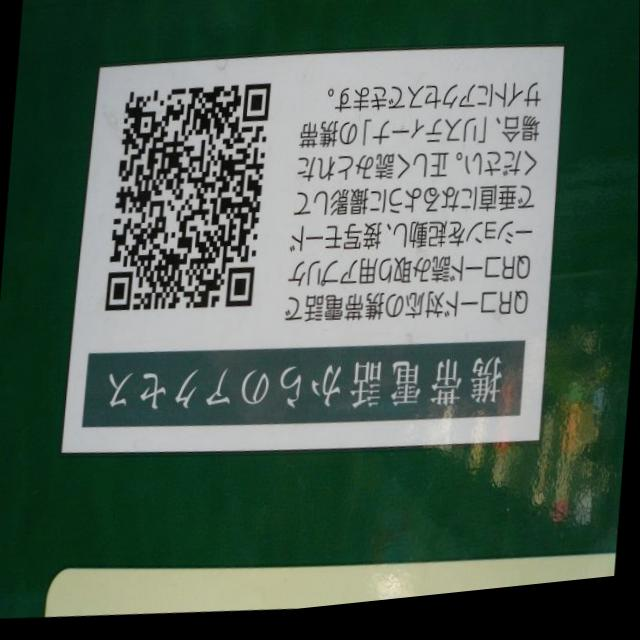qrcode: (105, 79, 270, 323)
